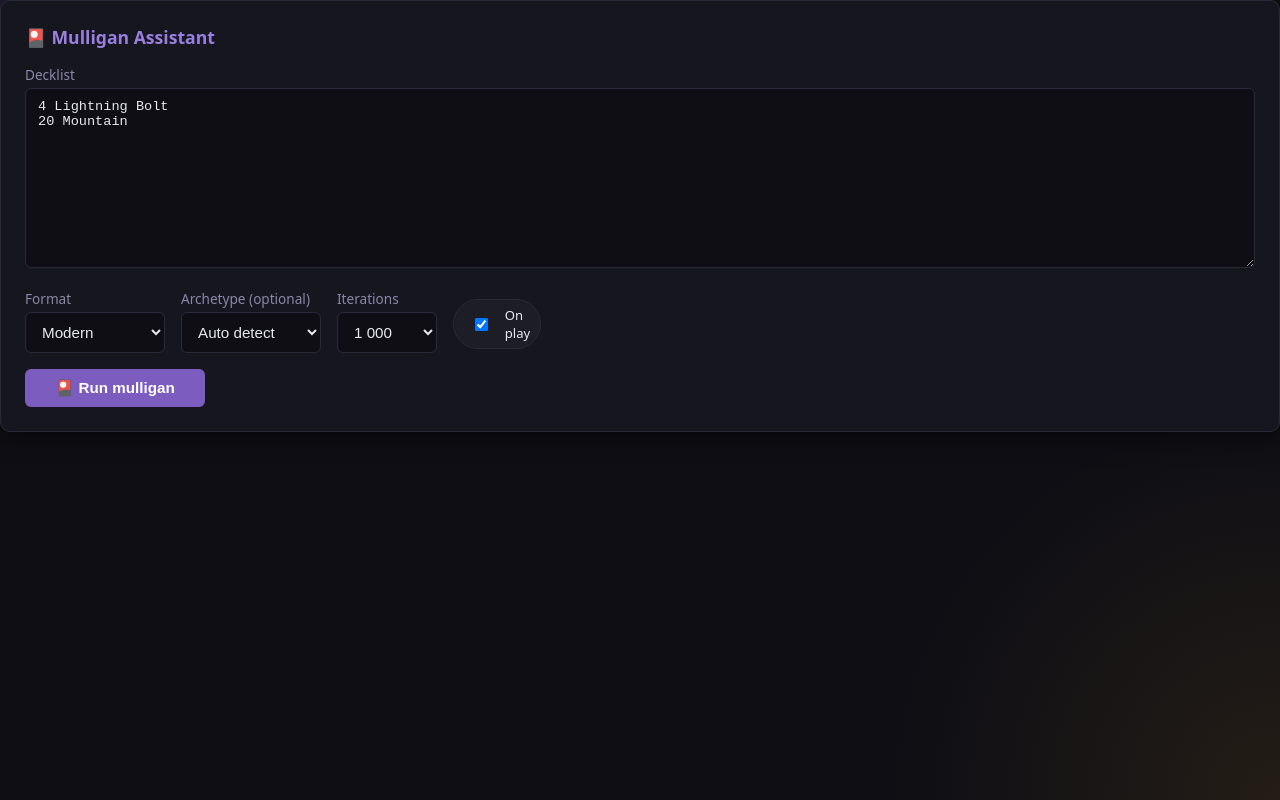
Test: MulliganAssistant › still runs simulation when background saved-decks load fails
Click the button "🎴 Run mulligan" at (115,388), box [25,369,205,407]
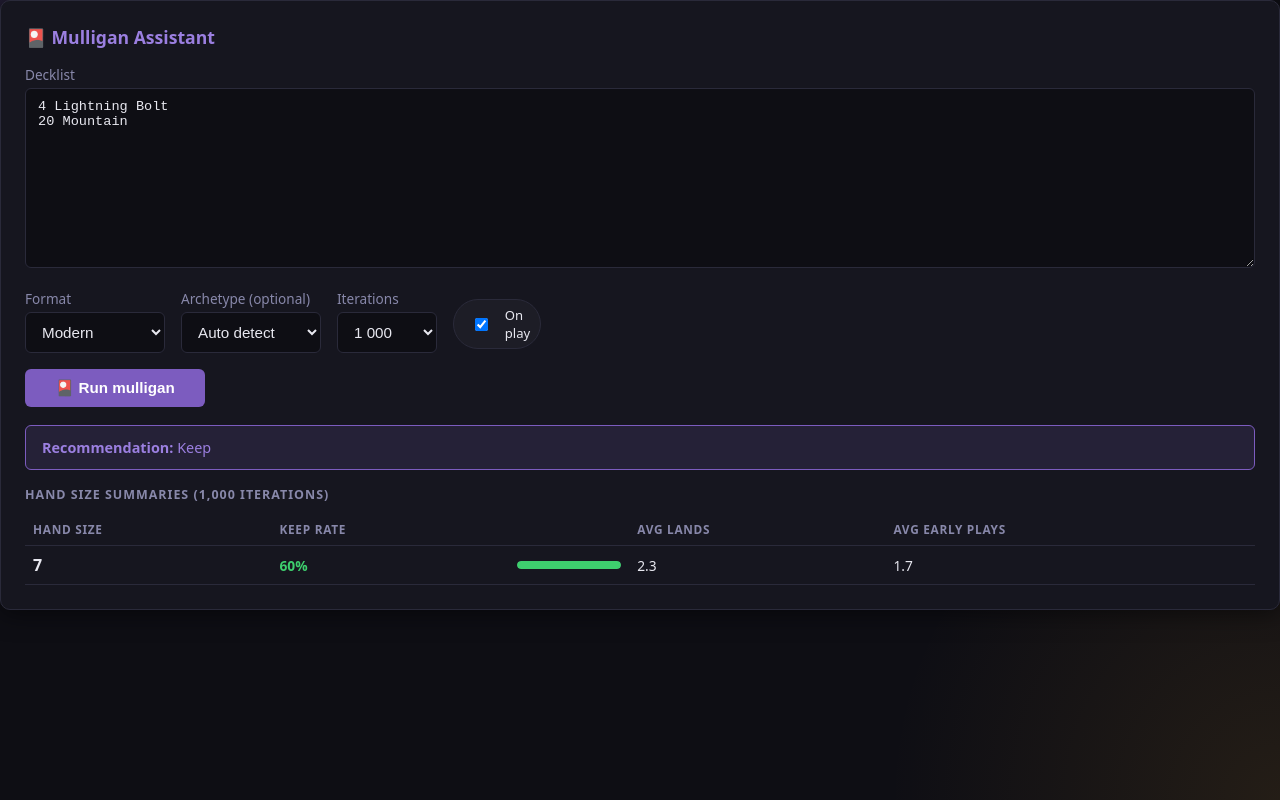
Now the text "Recommendation:" is shown, box [42,438,174,457]
Now the text "Keep" is shown, box [177,438,211,457]
